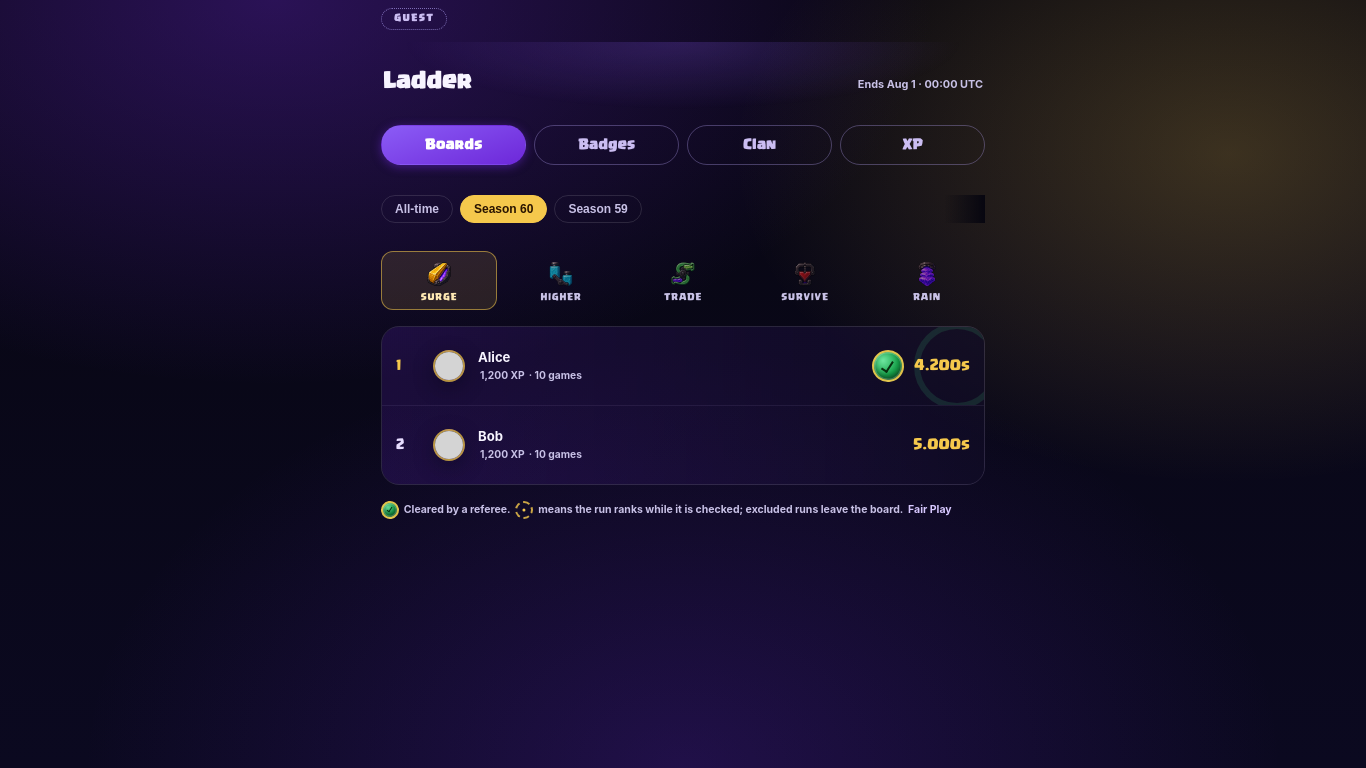
Test: Leaderboards › gates the XP history without starting a private read when signed out
Click the tab "XP": click(912, 145) [840,125,985,165]
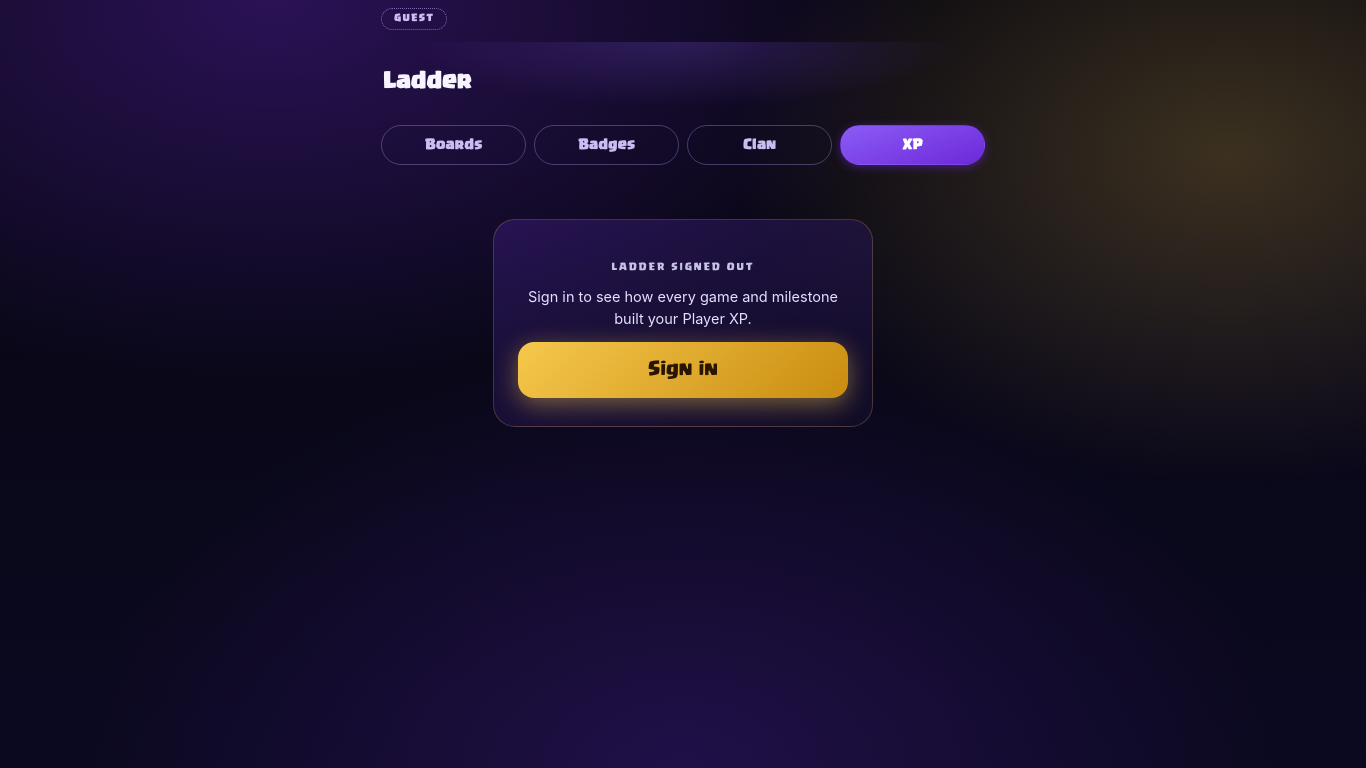
Result: the text "Ladder signed out" is shown at [611,260,754,274]
Result: the text "how every game and milestone built your Player XP" is shown at [528,288,838,327]
